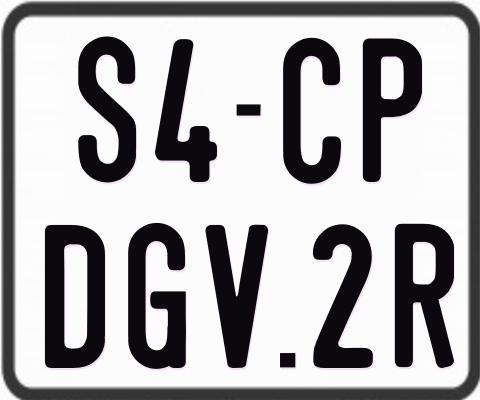2: (313, 221, 373, 365)
4: (155, 39, 217, 188)
C: (283, 35, 344, 184)
D: (44, 225, 110, 373)
G: (128, 222, 190, 369)
P: (360, 35, 420, 185)
R: (393, 221, 458, 366)
S: (77, 34, 135, 182)
V: (203, 223, 267, 372)
